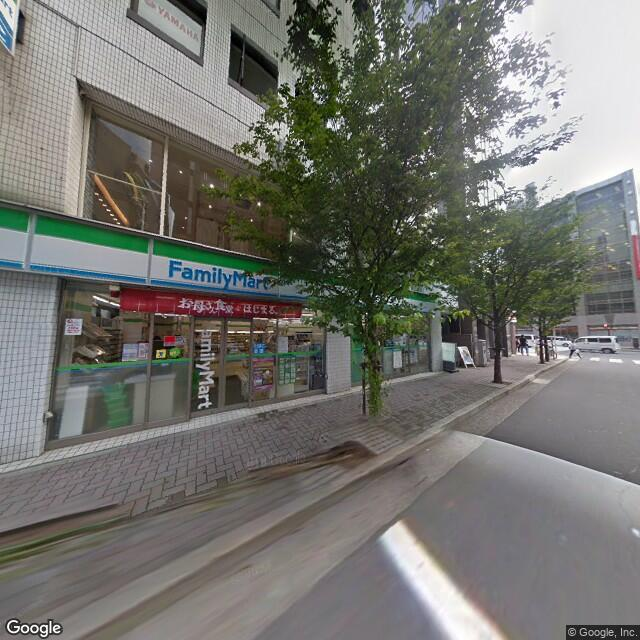family_mart: (1, 204, 440, 312), (192, 315, 216, 414)
